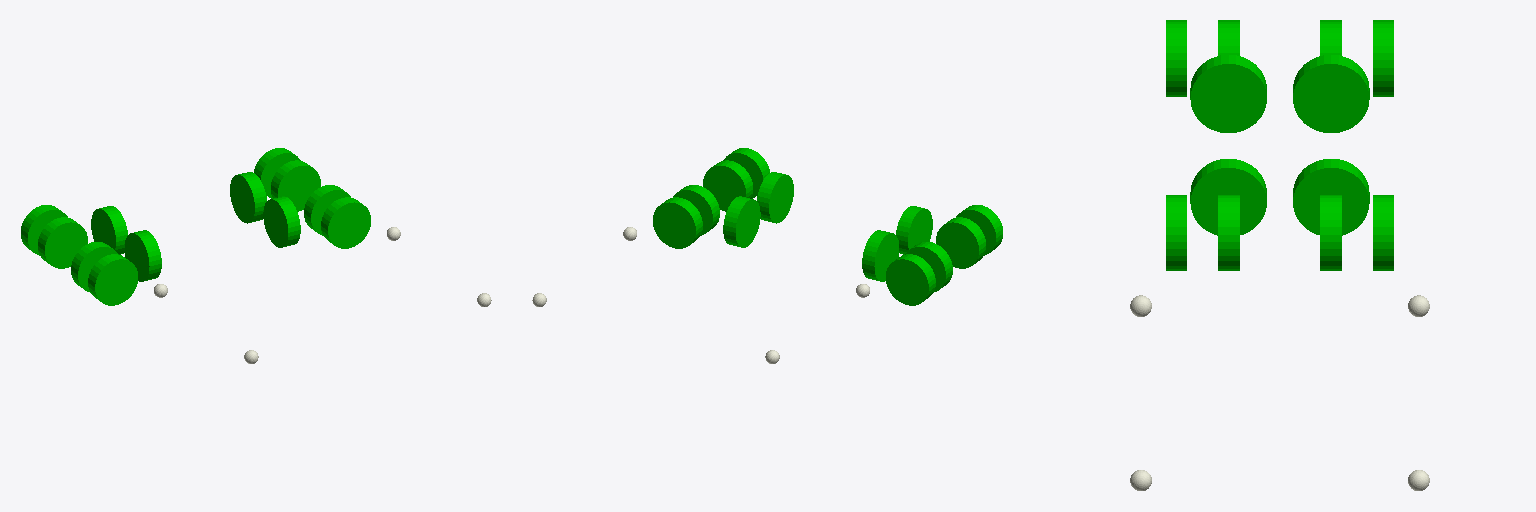
--- Render facts (derived) ---
3 views of the same robot in one strip: view 1: azimuth 30°, elevation 25°; view 2: azimuth 150°, elevation 25°; view 3: azimuth 270°, elevation 25° (orthographic).
Model go1 with 29 links and 28 joints (12 revolute, 16 fixed), rooted at trunk, posed all joints at 0 but 4 set to mid-range because 0 is outside their limits (RL_calf_joint = -1.85, RR_calf_joint = -1.85, FR_calf_joint = -1.85, FL_calf_joint = -1.85).
Visible links, largest first — view 1: RR_calf_rotor, FR_calf_rotor, RL_thigh_rotor, FL_thigh_rotor, FR_hip_rotor, FL_hip_rotor, RR_hip_rotor, RL_hip_rotor, RR_thigh_rotor, FR_thigh_rotor, RL_calf_rotor, FL_calf_rotor; view 2: RL_calf_rotor, FL_calf_rotor, RR_thigh_rotor, FR_thigh_rotor, FL_hip_rotor, FR_hip_rotor, RL_hip_rotor, RR_hip_rotor, RL_thigh_rotor, FL_thigh_rotor, RR_calf_rotor, FR_calf_rotor; view 3: RL_hip_rotor, RR_hip_rotor, FR_hip_rotor, FL_hip_rotor, FR_thigh_rotor, FL_thigh_rotor, RL_calf_rotor, RR_calf_rotor, FR_calf_rotor, FL_calf_rotor, RL_thigh_rotor, RR_thigh_rotor.
Link boxes in pixels (box(x1,y1,x2,y2)): RR_calf_rotor: box(88, 254, 137, 305); FR_calf_rotor: box(321, 197, 370, 248); RL_thigh_rotor: box(38, 217, 87, 268); FL_thigh_rotor: box(271, 160, 320, 211); FR_hip_rotor: box(263, 196, 300, 247); FL_hip_rotor: box(230, 172, 266, 223); RR_hip_rotor: box(125, 230, 161, 281); RL_hip_rotor: box(91, 206, 127, 254); RR_thigh_rotor: box(71, 242, 118, 292); FR_thigh_rotor: box(304, 185, 350, 235); RL_calf_rotor: box(21, 205, 67, 255); FL_calf_rotor: box(254, 148, 300, 198); RL_calf_rotor: box(886, 254, 935, 305); FL_calf_rotor: box(653, 197, 702, 248); RR_thigh_rotor: box(936, 217, 985, 268); FR_thigh_rotor: box(703, 160, 752, 211); FL_hip_rotor: box(723, 196, 760, 247); FR_hip_rotor: box(757, 172, 793, 223); RL_hip_rotor: box(862, 230, 898, 281); RR_hip_rotor: box(896, 206, 932, 254); RL_thigh_rotor: box(905, 242, 952, 292); FL_thigh_rotor: box(673, 185, 719, 235); RR_calf_rotor: box(956, 205, 1002, 255); FR_calf_rotor: box(723, 148, 769, 198); RL_hip_rotor: box(1293, 55, 1369, 132); RR_hip_rotor: box(1190, 55, 1266, 132); FR_hip_rotor: box(1190, 159, 1266, 235); FL_hip_rotor: box(1293, 159, 1369, 235); FR_thigh_rotor: box(1218, 195, 1239, 270); FL_thigh_rotor: box(1320, 195, 1341, 270); RL_calf_rotor: box(1373, 20, 1393, 96); RR_calf_rotor: box(1166, 20, 1186, 96); FR_calf_rotor: box(1166, 195, 1186, 270); FL_calf_rotor: box(1373, 195, 1393, 270); RL_thigh_rotor: box(1320, 20, 1341, 55); RR_thigh_rotor: box(1218, 20, 1239, 55).
Bounding box of the posed robot: 0.6257 × 0.2735 × 0.1986 m (x, y, z).
0 mesh visuals loaded from 5 distinct referenced files (none loaded); not drawn: 13 (reference not matched to a file when rendering).

robot.urdf — go1:
<robot name="go1">
  <material name="black">
    <color rgba="0.0 0.0 0.0 1.0"/>
  </material>
  <material name="blue">
    <color rgba="0.0 0.0 0.8 1.0"/>
  </material>
  <material name="green">
    <color rgba="0.0 0.8 0.0 1.0"/>
  </material>
  <material name="grey">
    <color rgba="0.2 0.2 0.2 1.0"/>
  </material>
  <material name="silver">
    <color rgba="0.913725490196 0.913725490196 0.847058823529 1.0"/>
  </material>
  <material name="orange">
    <color rgba="1.0 0.423529411765 0.0392156862745 1.0"/>
  </material>
  <material name="brown">
    <color rgba="0.870588235294 0.811764705882 0.764705882353 1.0"/>
  </material>
  <material name="red">
    <color rgba="0.8 0.0 0.0 1.0"/>
  </material>
  <material name="white">
    <color rgba="1.0 1.0 1.0 1.0"/>
  </material>
  

  <link name="trunk">
    <visual>
      <origin rpy="0 0 0" xyz="0 0 0"/>
      <geometry>
        <mesh filename="meshes/trunk.stl" scale="1 1 1"/>
      </geometry>
      <material name="silver"/>
    </visual>
    <collision>
      <origin rpy="0 0 0" xyz="0 0 0"/>
      <geometry>
        <box size="0.3762 0.0935 0.114"/>
      </geometry>
    </collision>
    <inertial>
      <origin rpy="0 0 0" xyz="0.0223 0.002 -0.0005"/>
      <mass value="5.204"/>
      <inertia ixx="0.0168128557" ixy="-0.0002296769" ixz="-0.0002945293" iyy="0.063009565" iyz="-4.18731e-05" izz="0.0716547275"/>
    </inertial>
  </link>
  
    <link name="RL_hip">
    <visual>
      <origin rpy="0 3.141592653589793 0" xyz="0 0 0" />
      <geometry>
        <mesh filename="meshes/hip.stl" scale="1 1 1" />
      </geometry>
      <material name="grey"/>
    </visual>
    <collision>
      <origin rpy="1.5707963267948966 0 0" xyz="0 0.08 0" />
      <geometry>
        <cylinder length="0.04" radius="0.046" />
      </geometry>
    </collision>
    <inertial>
      <origin rpy="0 0 0" xyz="0.005657 -0.008752 -0.000102" />
      <mass value="0.591" />
      <inertia ixx="0.000334008405" ixy="1.0826066e-05" ixz="-1.290732e-06" iyy="0.000619101213" iyz="1.643194e-06" izz="0.00040057614" />
    </inertial>
  </link>

  <joint name="RL_hip_joint" type="revolute">
    <origin rpy="0 0 0" xyz="-0.1881 0.04675 0" />
    <parent link="trunk" />
    <child link="RL_hip" />
    <axis xyz="1 0 0" />
    <dynamics damping="0.01" friction="0.2" />
    <limit effort="23.7" lower="-0.863" upper="0.863" velocity="30.1" />
  </joint>

   <link name="RL_thigh">
    <visual>
      <origin rpy="0 0 0" xyz="0 0 0" />
      <geometry>
        <mesh filename="meshes/thigh.stl" scale="1 1 1" />
      </geometry>
      <material name="grey"/>
    </visual>
    <collision>
      <origin rpy="0 1.5707963267948966 0" xyz="0 0 -0.1065" />
      <geometry>
        <box size="0.213 0.0245 0.034" />
      </geometry>
    </collision>
    <inertial>
      <origin rpy="0 0 0" xyz="-0.003342 -0.018054 -0.033451" />
      <mass value="0.92" />
      <inertia ixx="0.004431760472" ixy="5.7496807e-05" ixz="-0.000218457134" iyy="0.004485671726" iyz="0.000572001265" izz="0.000740309489" />
    </inertial>
  </link>

  <joint name="RL_thigh_joint" type="revolute">
    <origin rpy="0 0 0" xyz="0 0.08 0" />
    <parent link="RL_hip" />
    <child link="RL_thigh" />
    <axis xyz="0 1 0" />
    <dynamics damping="0.01" friction="0.2" />
    <limit effort="23.7" lower="-0.686" upper="4.501" velocity="30.1" />
  </joint>

  <link name="RL_calf">
    <visual>
      <origin rpy="0 0 0" xyz="0 0 0" />
      <geometry>
        <mesh filename="meshes/calf.stl" scale="1 1 1" />
      </geometry>
      <material name="silver"/>
    </visual>
    <collision>
      <origin rpy="0 1.5707963267948966 0" xyz="0 0 -0.1065" />
      <geometry>
        <box size="0.213 0.016 0.016" />
      </geometry>
    </collision>
    <inertial>
      <origin rpy="0 0 0" xyz="0.006197 0.001408 -0.116695" />
      <mass value="0.135862" />
      <inertia ixx="0.001088793059" ixy="-2.55679e-07" ixz="7.117814e-06" iyy="0.001100428748" iyz="2.077264e-06" izz="2.4787446e-05" />
    </inertial>
  </link>

  <joint name="RL_calf_joint" type="revolute">
    <origin rpy="0 0 0" xyz="0 0 -0.213" />
    <parent link="RL_thigh" />
    <child link="RL_calf" />
    <axis xyz="0 1 0" />
    <dynamics damping="0.01" friction="0.2" />
    <limit effort="35.55" lower="-2.818" upper="-0.888" velocity="20.06" />
  </joint>

   <link name="RR_hip">
    <visual>
      <origin rpy="3.141592653589793 3.141592653589793 0" xyz="0 0 0" />
      <geometry>
        <mesh filename="meshes/hip.stl" scale="1 1 1" />
      </geometry>
      <material name="grey"/>
    </visual>
    <collision>
      <origin rpy="1.5707963267948966 0 0" xyz="0 -0.08 0" />
      <geometry>
        <cylinder length="0.04" radius="0.046" />
      </geometry>
    </collision>
    <inertial>
      <origin rpy="0 0 0" xyz="0.005657 0.008752 -0.000102" />
      <mass value="0.591" />
      <inertia ixx="0.000334008405" ixy="-1.0826066e-05" ixz="-1.290732e-06" iyy="0.000619101213" iyz="-1.643194e-06" izz="0.00040057614" />
    </inertial>
  </link>

  <joint name="RR_hip_joint" type="revolute">
    <origin rpy="0 0 0" xyz="-0.1881 -0.04675 0" />
    <parent link="trunk" />
    <child link="RR_hip" />
    <axis xyz="1 0 0" />
    <dynamics damping="0.01" friction="0.2" />
    <limit effort="23.7" lower="-0.863" upper="0.863" velocity="30.1" />
  </joint>

   <link name="RR_thigh">
    <visual>
      <origin rpy="0 0 0" xyz="0 0 0" />
      <geometry>
        <mesh filename="meshes/thigh_mirror.stl" scale="1 1 1" />
      </geometry>
      <material name="grey"/>
    </visual>
    <collision>
      <origin rpy="0 1.5707963267948966 0" xyz="0 0 -0.1065" />
      <geometry>
        <box size="0.213 0.0245 0.034" />
      </geometry>
    </collision>
    <inertial>
      <origin rpy="0 0 0" xyz="-0.003342 0.018054 -0.033451" />
      <mass value="0.92" />
      <inertia ixx="0.004431760472" ixy="-5.7496807e-05" ixz="-0.000218457134" iyy="0.004485671726" iyz="-0.000572001265" izz="0.000740309489" />
    </inertial>
  </link>

  <joint name="RR_thigh_joint" type="revolute">
    <origin rpy="0 0 0" xyz="0 -0.08 0" />
    <parent link="RR_hip" />
    <child link="RR_thigh" />
    <axis xyz="0 1 0" />
    <dynamics damping="0.01" friction="0.2" />
    <limit effort="23.7" lower="-0.686" upper="4.501" velocity="30.1" />
  </joint>

  <link name="RR_calf">
    <visual>
      <origin rpy="0 0 0" xyz="0 0 0" />
      <geometry>
        <mesh filename="meshes/calf.stl" scale="1 1 1" />
      </geometry>
      <material name="silver"/>
    </visual>
    <collision>
      <origin rpy="0 1.5707963267948966 0" xyz="0 0 -0.1065" />
      <geometry>
        <box size="0.213 0.016 0.016" />
      </geometry>
    </collision>
    <inertial>
      <origin rpy="0 0 0" xyz="0.006197 0.001408 -0.116695" />
      <mass value="0.135862" />
      <inertia ixx="0.001088793059" ixy="-2.55679e-07" ixz="7.117814e-06" iyy="0.001100428748" iyz="2.077264e-06" izz="2.4787446e-05" />
    </inertial>
  </link>

  <joint name="RR_calf_joint" type="revolute">
    <origin rpy="0 0 0" xyz="0 0 -0.213" />
    <parent link="RR_thigh" />
    <child link="RR_calf" />
    <axis xyz="0 1 0" />
    <dynamics damping="0.01" friction="0.2" />
    <limit effort="35.55" lower="-2.818" upper="-0.888" velocity="20.06" />
  </joint>

  <link name="FR_hip">
    <visual>
      <origin rpy="3.141592653589793 0 0" xyz="0 0 0" />
      <geometry>
        <mesh filename="meshes/hip.stl" scale="1 1 1" />
      </geometry>
      <material name="grey"/>
    </visual>
    <collision>
      <origin rpy="1.5707963267948966 0 0" xyz="0 -0.08 0" />
      <geometry>
        <cylinder length="0.04" radius="0.046" />
      </geometry>
    </collision>
    <inertial>
      <origin rpy="0 0 0" xyz="-0.005657 0.008752 -0.000102" />
      <mass value="0.591" />
      <inertia ixx="0.000334008405" ixy="1.0826066e-05" ixz="1.290732e-06" iyy="0.000619101213" iyz="-1.643194e-06" izz="0.00040057614" />
    </inertial>
  </link>

  <joint name="FR_hip_joint" type="revolute">
    <origin rpy="0 0 0" xyz="0.1881 -0.04675 0" />
    <parent link="trunk" />
    <child link="FR_hip" />
    <axis xyz="1 0 0" />
    <dynamics damping="0.01" friction="0.2" />
    <limit effort="23.7" lower="-0.863" upper="0.863" velocity="30.1" />
  </joint>

  <link name="FR_thigh">
    <visual>
      <origin rpy="0 0 0" xyz="0 0 0" />
      <geometry>
        <mesh filename="meshes/thigh_mirror.stl" scale="1 1 1" />
      </geometry>
      <material name="grey"/>
    </visual>
    <collision>
      <origin rpy="0 1.5707963267948966 0" xyz="0 0 -0.1065" />
      <geometry>
        <box size="0.213 0.0245 0.034" />
      </geometry>
    </collision>
    <inertial>
      <origin rpy="0 0 0" xyz="-0.003342 0.018054 -0.033451" />
      <mass value="0.92" />
      <inertia ixx="0.004431760472" ixy="-5.7496807e-05" ixz="-0.000218457134" iyy="0.004485671726" iyz="-0.000572001265" izz="0.000740309489" />
    </inertial>
  </link>

  <joint name="FR_thigh_joint" type="revolute">
    <origin rpy="0 0 0" xyz="0 -0.08 0" />
    <parent link="FR_hip" />
    <child link="FR_thigh" />
    <axis xyz="0 1 0" />
    <dynamics damping="0.01" friction="0.2" />
    <limit effort="23.7" lower="-0.686" upper="4.501" velocity="30.1" />
  </joint>

  <link name="FR_calf">
    <visual>
      <origin rpy="0 0 0" xyz="0 0 0" />
      <geometry>
        <mesh filename="meshes/calf.stl" scale="1 1 1" />
      </geometry>
      <material name="silver"/>
    </visual>
    <collision>
      <origin rpy="0 1.5707963267948966 0" xyz="0 0 -0.1065" />
      <geometry>
        <box size="0.213 0.016 0.016" />
      </geometry>
    </collision>
    <inertial>
      <origin rpy="0 0 0" xyz="0.006197 0.001408 -0.116695" />
      <mass value="0.135862" />
      <inertia ixx="0.001088793059" ixy="-2.55679e-07" ixz="7.117814e-06" iyy="0.001100428748" iyz="2.077264e-06" izz="2.4787446e-05" />
    </inertial>
  </link>

  <joint name="FR_calf_joint" type="revolute">
    <origin rpy="0 0 0" xyz="0 0 -0.213" />
    <parent link="FR_thigh" />
    <child link="FR_calf" />
    <axis xyz="0 1 0" />
    <dynamics damping="0.01" friction="0.2" />
    <limit effort="35.55" lower="-2.818" upper="-0.888" velocity="20.06" />
  </joint>

  <link name="FL_hip">
    <visual>
      <origin rpy="0 0 0" xyz="0 0 0" />
      <geometry>
        <mesh filename="meshes/hip.stl" scale="1 1 1" />
      </geometry>
      <material name="grey"/>
    </visual>
    <collision>
      <origin rpy="1.5707963267948966 0 0" xyz="0 0.08 0" />
      <geometry>
        <cylinder length="0.04" radius="0.046" />
      </geometry>
    </collision>
    <inertial>
      <origin rpy="0 0 0" xyz="-0.005657 -0.008752 -0.000102" />
      <mass value="0.591" />
      <inertia ixx="0.000334008405" ixy="-1.0826066e-05" ixz="1.290732e-06" iyy="0.000619101213" iyz="1.643194e-06" izz="0.00040057614" />
    </inertial>
  </link>

  <joint name="FL_hip_joint" type="revolute">
    <origin rpy="0 0 0" xyz="0.1881 0.04675 0" />
    <parent link="trunk" />
    <child link="FL_hip" />
    <axis xyz="1 0 0" />
    <dynamics damping="0.01" friction="0.2" />
    <limit effort="23.7" lower="-0.863" upper="0.863" velocity="30.1" />
  </joint>

  <link name="FL_thigh">
    <visual>
      <origin rpy="0 0 0" xyz="0 0 0" />
      <geometry>
        <mesh filename="meshes/thigh.stl" scale="1 1 1" />
      </geometry>
      <material name="grey"/>
    </visual>
    <collision>
      <origin rpy="0 1.5707963267948966 0" xyz="0 0 -0.1065" />
      <geometry>
        <box size="0.213 0.0245 0.034" />
      </geometry>
    </collision>
    <inertial>
      <origin rpy="0 0 0" xyz="-0.003342 -0.018054 -0.033451" />
      <mass value="0.92" />
      <inertia ixx="0.004431760472" ixy="5.7496807e-05" ixz="-0.000218457134" iyy="0.004485671726" iyz="0.000572001265" izz="0.000740309489" />
    </inertial>
  </link>

  <joint name="FL_thigh_joint" type="revolute">
    <origin rpy="0 0 0" xyz="0 0.08 0" />
    <parent link="FL_hip" />
    <child link="FL_thigh" />
    <axis xyz="0 1 0" />
    <dynamics damping="0.01" friction="0.2" />
    <limit effort="23.7" lower="-0.686" upper="4.501" velocity="30.1" />
  </joint>


  <link name="FL_calf">
    <visual>
      <origin rpy="0 0 0" xyz="0 0 0" />
      <geometry>
        <mesh filename="meshes/calf.stl" scale="1 1 1" />
      </geometry>
      <material name="silver"/>
    </visual>
    <collision>
      <origin rpy="0 1.5707963267948966 0" xyz="0 0 -0.1065" />
      <geometry>
        <box size="0.213 0.016 0.016" />
      </geometry>
    </collision>
    <inertial>
      <origin rpy="0 0 0" xyz="0.006197 0.001408 -0.116695" />
      <mass value="0.135862" />
      <inertia ixx="0.001088793059" ixy="-2.55679e-07" ixz="7.117814e-06" iyy="0.001100428748" iyz="2.077264e-06" izz="2.4787446e-05" />
    </inertial>
  </link>

  <joint name="FL_calf_joint" type="revolute">
    <origin rpy="0 0 0" xyz="0 0 -0.213" />
    <parent link="FL_thigh" />
    <child link="FL_calf" />
    <axis xyz="0 1 0" />
    <dynamics damping="0.01" friction="0.2" />
    <limit effort="35.55" lower="-2.818" upper="-0.888" velocity="20.06" />
  </joint>

    <link name="RL_foot">
    <visual>
      <origin rpy="0 0 0" xyz="0 0 0" />
      <geometry>
        <sphere radius="0.01" />
      </geometry>
      <material name="silver"/>
    </visual>
    <collision>
      <origin rpy="0 0 0" xyz="0 0 0" />
      <geometry>
        <sphere radius="0.02" />
      </geometry>
    </collision>
    <inertial>
      <mass value="0.06" />
      <inertia ixx="9.600000000000001e-06" ixy="0.0" ixz="0.0" iyy="9.600000000000001e-06" iyz="0.0" izz="9.600000000000001e-06" />
    </inertial>
  </link>
  <joint name="RL_foot_fixed" type="fixed">
    <origin rpy="0 0 0" xyz="0 0 -0.213" />
    <parent link="RL_calf" />
    <child link="RL_foot" />
  </joint>

   <link name="RR_foot">
    <visual>
      <origin rpy="0 0 0" xyz="0 0 0" />
      <geometry>
        <sphere radius="0.01" />
      </geometry>
      <material name="silver"/>
    </visual>
    <collision>
      <origin rpy="0 0 0" xyz="0 0 0" />
      <geometry>
        <sphere radius="0.02" />
      </geometry>
    </collision>
    <inertial>
      <mass value="0.06" />
      <inertia ixx="9.600000000000001e-06" ixy="0.0" ixz="0.0" iyy="9.600000000000001e-06" iyz="0.0" izz="9.600000000000001e-06" />
    </inertial>
  </link>
  <joint name="RR_foot_fixed" type="fixed">
    <origin rpy="0 0 0" xyz="0 0 -0.213" />
    <parent link="RR_calf" />
    <child link="RR_foot" />
  </joint>

  <joint name="FR_foot_fixed" type="fixed">
    <origin rpy="0 0 0" xyz="0 0 -0.213" />
    <parent link="FR_calf" />
    <child link="FR_foot" />
  </joint>
  <link name="FR_foot">
    <visual>
      <origin rpy="0 0 0" xyz="0 0 0" />
      <geometry>
        <sphere radius="0.01" />
      </geometry>
      <material name="silver"/>
    </visual>
    <collision>
      <origin rpy="0 0 0" xyz="0 0 0" />
      <geometry>
        <sphere radius="0.02" />
      </geometry>
    </collision>
    <inertial>
      <mass value="0.06" />
      <inertia ixx="9.600000000000001e-06" ixy="0.0" ixz="0.0" iyy="9.600000000000001e-06" iyz="0.0" izz="9.600000000000001e-06" />
    </inertial>
  </link>

  <joint name="FL_foot_fixed" type="fixed">
    <origin rpy="0 0 0" xyz="0 0 -0.213" />
    <parent link="FL_calf" />
    <child link="FL_foot" />
  </joint>
  <link name="FL_foot">
    <visual>
      <origin rpy="0 0 0" xyz="0 0 0" />
      <geometry>
        <sphere radius="0.01" />
      </geometry>
      <material name="silver"/>
    </visual>
    <collision>
      <origin rpy="0 0 0" xyz="0 0 0" />
      <geometry>
        <sphere radius="0.02" />
      </geometry>
    </collision>
    <inertial>
      <mass value="0.06" />
      <inertia ixx="9.600000000000001e-06" ixy="0.0" ixz="0.0" iyy="9.600000000000001e-06" iyz="0.0" izz="9.600000000000001e-06" />
    </inertial>
  </link>

  <link name="RL_hip_rotor">
    <visual>
      <origin rpy="0 1.5707963267948966 0" xyz="0 0 0" />
      <geometry>
        <cylinder length="0.02" radius="0.035" />
      </geometry>
      <material name="green" />
    </visual>
    <collision>
      <origin rpy="0 1.5707963267948966 0" xyz="0 0 0" />
      <geometry>
        <cylinder length="0.02" radius="0.035" />
      </geometry>
    </collision>
    <inertial>
      <origin rpy="0 0 0" xyz="0.0 0.0 0.0" />
      <mass value="0.089" />
      <inertia ixx="0.000111842" ixy="0.0" ixz="0.0" iyy="5.9647e-05" iyz="0.0" izz="5.9647e-05" />
    </inertial>
  </link>

    <joint name="RL_hip_rotor_joint" type="fixed">
    <origin rpy="0 0 0" xyz="-0.11215 0.04675 0" />
    <parent link="trunk" />
    <child link="RL_hip_rotor" />
  </joint>

    <link name="RL_thigh_rotor">
    <visual>
      <origin rpy="1.5707963267948966 0 0" xyz="0 0 0" />
      <geometry>
        <cylinder length="0.02" radius="0.035" />
      </geometry>
      <material name="green" />
    </visual>
    <collision>
      <origin rpy="1.5707963267948966 0 0" xyz="0 0 0" />
      <geometry>
        <cylinder length="0.02" radius="0.035" />
      </geometry>
    </collision>
    <inertial>
      <origin rpy="0 0 0" xyz="0.0 0.0 0.0" />
      <mass value="0.089" />
      <inertia ixx="5.9647e-05" ixy="0.0" ixz="0.0" iyy="0.000111842" iyz="0.0" izz="5.9647e-05" />
    </inertial>
  </link>
  <joint name="RL_thigh_rotor_joint" type="fixed">
    <origin rpy="0 0 0" xyz="0.0 -0.00015 0" />
    <parent link="RL_hip" />
    <child link="RL_thigh_rotor" />
  </joint>

  <link name="RL_calf_rotor">
    <visual>
      <origin rpy="1.5707963267948966 0 0" xyz="0 0 0" />
      <geometry>
        <cylinder length="0.02" radius="0.035" />
      </geometry>
      <material name="green" />
    </visual>
    <collision>
      <origin rpy="1.5707963267948966 0 0" xyz="0 0 0" />
      <geometry>
        <cylinder length="0.02" radius="0.035" />
      </geometry>
    </collision>
    <inertial>
      <origin rpy="0 0 0" xyz="0.0 0.0 0.0" />
      <mass value="0.089" />
      <inertia ixx="5.9647e-05" ixy="0.0" ixz="0.0" iyy="0.000111842" iyz="0.0" izz="5.9647e-05" />
    </inertial>
  </link>
  <joint name="RL_calf_rotor_joint" type="fixed">
    <origin rpy="0 0 0" xyz="0.0 -0.03235 0" />
    <parent link="RL_thigh" />
    <child link="RL_calf_rotor" />
  </joint>



  <link name="RR_hip_rotor">
    <visual>
      <origin rpy="0 1.5707963267948966 0" xyz="0 0 0" />
      <geometry>
        <cylinder length="0.02" radius="0.035" />
      </geometry>
      <material name="green" />
    </visual>
    <collision>
      <origin rpy="0 1.5707963267948966 0" xyz="0 0 0" />
      <geometry>
        <cylinder length="0.02" radius="0.035" />
      </geometry>
    </collision>
    <inertial>
      <origin rpy="0 0 0" xyz="0.0 0.0 0.0" />
      <mass value="0.089" />
      <inertia ixx="0.000111842" ixy="0.0" ixz="0.0" iyy="5.9647e-05" iyz="0.0" izz="5.9647e-05" />
    </inertial>
  </link>

  <joint name="RR_hip_rotor_joint" type="fixed">
    <origin rpy="0 0 0" xyz="-0.11215 -0.04675 0" />
    <parent link="trunk" />
    <child link="RR_hip_rotor" />
  </joint>

  
  <link name="RR_thigh_rotor">
    <visual>
      <origin rpy="1.5707963267948966 0 0" xyz="0 0 0" />
      <geometry>
        <cylinder length="0.02" radius="0.035" />
      </geometry>
      <material name="green" />
    </visual>
    <collision>
      <origin rpy="1.5707963267948966 0 0" xyz="0 0 0" />
      <geometry>
        <cylinder length="0.02" radius="0.035" />
      </geometry>
    </collision>
    <inertial>
      <origin rpy="0 0 0" xyz="0.0 0.0 0.0" />
      <mass value="0.089" />
      <inertia ixx="5.9647e-05" ixy="0.0" ixz="0.0" iyy="0.000111842" iyz="0.0" izz="5.9647e-05" />
    </inertial>
  </link>

  <joint name="RR_thigh_rotor_joint" type="fixed">
    <origin rpy="0 0 0" xyz="0.0 0.00015 0" />
    <parent link="RR_hip" />
    <child link="RR_thigh_rotor" />
  </joint>
  
  <link name="RR_calf_rotor">
    <visual>
      <origin rpy="1.5707963267948966 0 0" xyz="0 0 0" />
      <geometry>
        <cylinder length="0.02" radius="0.035" />
      </geometry>
      <material name="green" />
    </visual>
    <collision>
      <origin rpy="1.5707963267948966 0 0" xyz="0 0 0" />
      <geometry>
        <cylinder length="0.02" radius="0.035" />
      </geometry>
    </collision>
    <inertial>
      <origin rpy="0 0 0" xyz="0.0 0.0 0.0" />
      <mass value="0.089" />
      <inertia ixx="5.9647e-05" ixy="0.0" ixz="0.0" iyy="0.000111842" iyz="0.0" izz="5.9647e-05" />
    </inertial>
  </link>
  <joint name="RR_calf_rotor_joint" type="fixed">
    <origin rpy="0 0 0" xyz="0.0 0.03235 0" />
    <parent link="RR_thigh" />
    <child link="RR_calf_rotor" />
  </joint>



  


 
   <link name="FR_hip_rotor">
    <visual>
      <origin rpy="0 1.5707963267948966 0" xyz="0 0 0" />
      <geometry>
        <cylinder length="0.02" radius="0.035" />
      </geometry>
      <material name="green" />
    </visual>
    <collision>
      <origin rpy="0 1.5707963267948966 0" xyz="0 0 0" />
      <geometry>
        <cylinder length="0.02" radius="0.035" />
      </geometry>
    </collision>
    <inertial>
      <origin rpy="0 0 0" xyz="0.0 0.0 0.0" />
      <mass value="0.089" />
      <inertia ixx="0.000111842" ixy="0.0" ixz="0.0" iyy="5.9647e-05" iyz="0.0" izz="5.9647e-05" />
    </inertial>
  </link>
  <joint name="FR_hip_rotor_joint" type="fixed">
    <origin rpy="0 0 0" xyz="0.11215 -0.04675 0" />
    <parent link="trunk" />
    <child link="FR_hip_rotor" />
  </joint>

 
  <link name="FR_thigh_rotor">
    <visual>
      <origin rpy="1.5707963267948966 0 0" xyz="0 0 0" />
      <geometry>
        <cylinder length="0.02" radius="0.035" />
      </geometry>
      <material name="green" />
    </visual>
    <collision>
      <origin rpy="1.5707963267948966 0 0" xyz="0 0 0" />
      <geometry>
        <cylinder length="0.02" radius="0.035" />
      </geometry>
    </collision>
    <inertial>
      <origin rpy="0 0 0" xyz="0.0 0.0 0.0" />
      <mass value="0.089" />
      <inertia ixx="5.9647e-05" ixy="0.0" ixz="0.0" iyy="0.000111842" iyz="0.0" izz="5.9647e-05" />
    </inertial>
  </link>
  <joint name="FR_thigh_rotor_joint" type="fixed">
    <origin rpy="0 0 0" xyz="0.0 0.00015 0" />
    <parent link="FR_hip" />
    <child link="FR_thigh_rotor" />
  </joint>

  <link name="FR_calf_rotor">
    <visual>
      <origin rpy="1.5707963267948966 0 0" xyz="0 0 0" />
      <geometry>
        <cylinder length="0.02" radius="0.035" />
      </geometry>
      <material name="green" />
    </visual>
    <collision>
      <origin rpy="1.5707963267948966 0 0" xyz="0 0 0" />
      <geometry>
        <cylinder length="0.02" radius="0.035" />
      </geometry>
    </collision>
    <inertial>
      <origin rpy="0 0 0" xyz="0.0 0.0 0.0" />
      <mass value="0.089" />
      <inertia ixx="5.9647e-05" ixy="0.0" ixz="0.0" iyy="0.000111842" iyz="0.0" izz="5.9647e-05" />
    </inertial>
  </link>
  <joint name="FR_calf_rotor_joint" type="fixed">
    <origin rpy="0 0 0" xyz="0.0 0.03235 0" />
    <parent link="FR_thigh" />
    <child link="FR_calf_rotor" />
  </joint>


    <link name="FL_hip_rotor">
    <visual>
      <origin rpy="0 1.5707963267948966 0" xyz="0 0 0" />
      <geometry>
        <cylinder length="0.02" radius="0.035" />
      </geometry>
      <material name="green" />
    </visual>
    <collision>
      <origin rpy="0 1.5707963267948966 0" xyz="0 0 0" />
      <geometry>
        <cylinder length="0.02" radius="0.035" />
      </geometry>
    </collision>
    <inertial>
      <origin rpy="0 0 0" xyz="0.0 0.0 0.0" />
      <mass value="0.089" />
      <inertia ixx="0.000111842" ixy="0.0" ixz="0.0" iyy="5.9647e-05" iyz="0.0" izz="5.9647e-05" />
    </inertial>
  </link>
  <joint name="FL_hip_rotor_joint" type="fixed">
    <origin rpy="0 0 0" xyz="0.11215 0.04675 0" />
    <parent link="trunk" />
    <child link="FL_hip_rotor" />
  </joint>

  <link name="FL_thigh_rotor">
    <visual>
      <origin rpy="1.5707963267948966 0 0" xyz="0 0 0" />
      <geometry>
        <cylinder length="0.02" radius="0.035" />
      </geometry>
      <material name="green" />
    </visual>
    <collision>
      <origin rpy="1.5707963267948966 0 0" xyz="0 0 0" />
      <geometry>
        <cylinder length="0.02" radius="0.035" />
      </geometry>
    </collision>
    <inertial>
      <origin rpy="0 0 0" xyz="0.0 0.0 0.0" />
      <mass value="0.089" />
      <inertia ixx="5.9647e-05" ixy="0.0" ixz="0.0" iyy="0.000111842" iyz="0.0" izz="5.9647e-05" />
    </inertial>
  </link>
    <joint name="FL_thigh_rotor_joint" type="fixed">
    <origin rpy="0 0 0" xyz="0.0 -0.00015 0" />
    <parent link="FL_hip" />
    <child link="FL_thigh_rotor" />
  </joint>

    <link name="FL_calf_rotor">
    <visual>
      <origin rpy="1.5707963267948966 0 0" xyz="0 0 0" />
      <geometry>
        <cylinder length="0.02" radius="0.035" />
      </geometry>
      <material name="green" />
    </visual>
    <collision>
      <origin rpy="1.5707963267948966 0 0" xyz="0 0 0" />
      <geometry>
        <cylinder length="0.02" radius="0.035" />
      </geometry>
    </collision>
    <inertial>
      <origin rpy="0 0 0" xyz="0.0 0.0 0.0" />
      <mass value="0.089" />
      <inertia ixx="5.9647e-05" ixy="0.0" ixz="0.0" iyy="0.000111842" iyz="0.0" izz="5.9647e-05" />
    </inertial>
  </link>
  <joint name="FL_calf_rotor_joint" type="fixed">
    <origin rpy="0 0 0" xyz="0.0 -0.03235 0" />
    <parent link="FL_thigh" />
    <child link="FL_calf_rotor" />
  </joint>
</robot>
